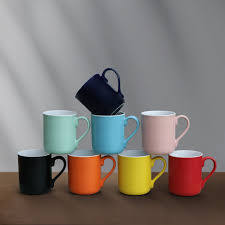mug: (12, 137, 75, 202), (65, 142, 123, 203), (75, 65, 138, 114), (163, 145, 219, 200), (89, 106, 151, 155), (138, 105, 196, 155), (114, 149, 171, 196), (38, 107, 96, 153)
